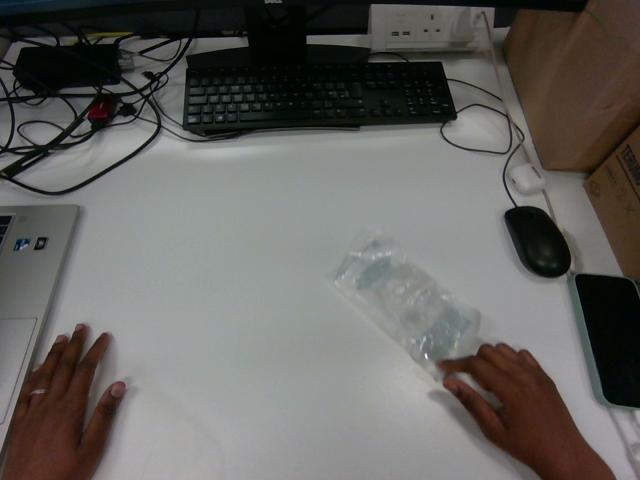gallipot: (332, 231, 480, 370)
